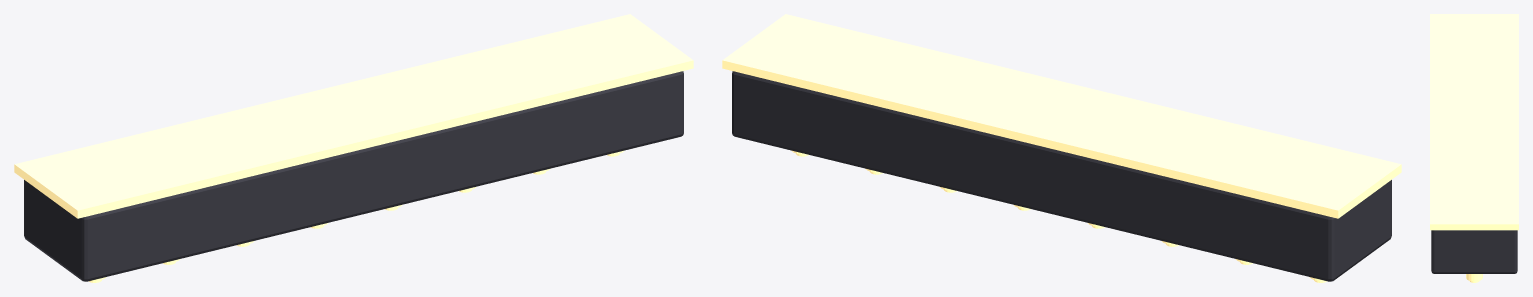
The model's file is card_connector.glb.
3 renders of one model, left to right at view 1: azimuth 30°, elevation 25°; view 2: azimuth 150°, elevation 25°; view 3: azimuth 270°, elevation 25°, orthographic. The views are drawn at different scales.
Visible parts, largest first — view 1: Kragen, Gehaeuse; view 2: Kragen, Gehaeuse; view 3: Kragen, Gehaeuse, Stift7.
Boxes of the visible parts, x1,y1,x2,y2 form: Kragen: (14,14,693,218); Gehaeuse: (24,71,683,281); Kragen: (722,14,1401,218); Gehaeuse: (732,71,1391,281); Kragen: (1430,14,1518,230); Gehaeuse: (1431,230,1517,273); Stift7: (1466,274,1482,281).
Bounding box in the file's own units: 0.9504 × 0.154 × 0.1693.
